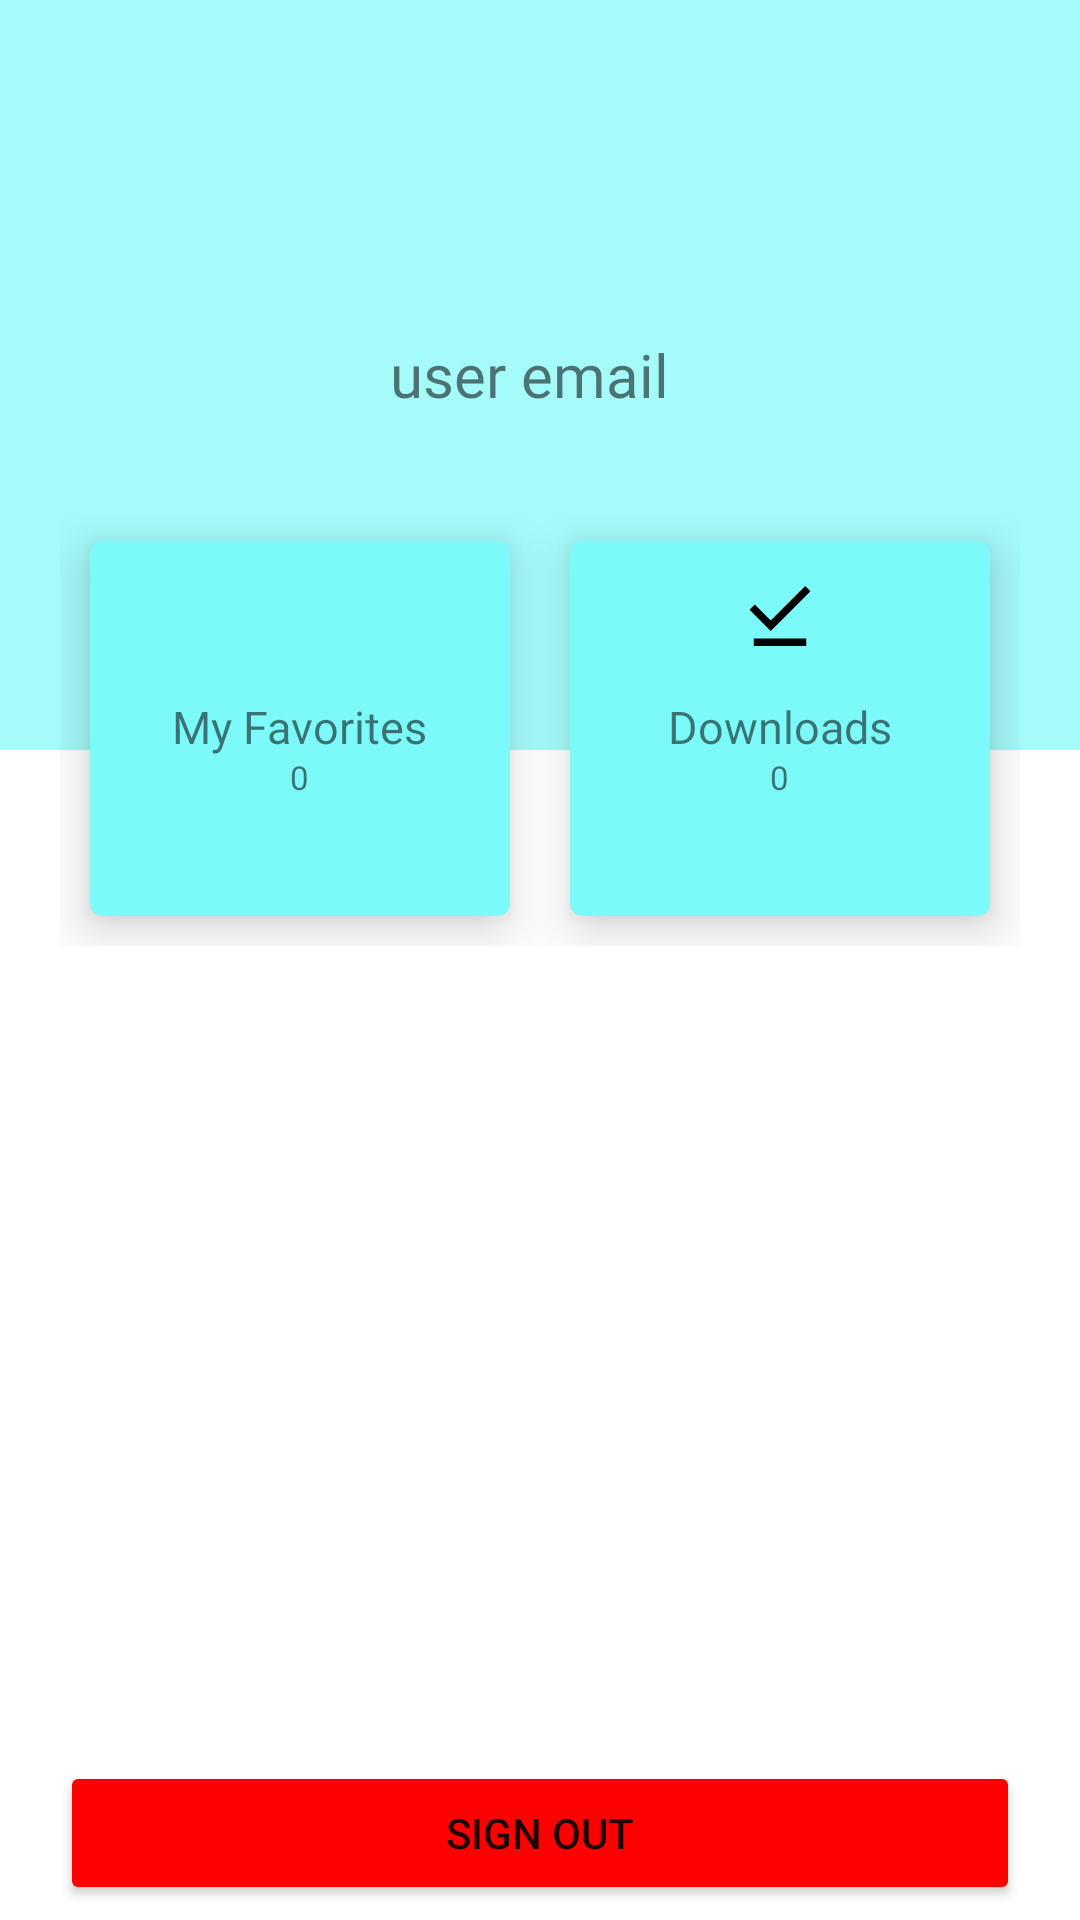

Screen size 1080w x 1920h. Icon name, then its box in pixels as bbox=(x1, y1, x2, y2):
download done: bbox=(749, 586, 811, 646)
